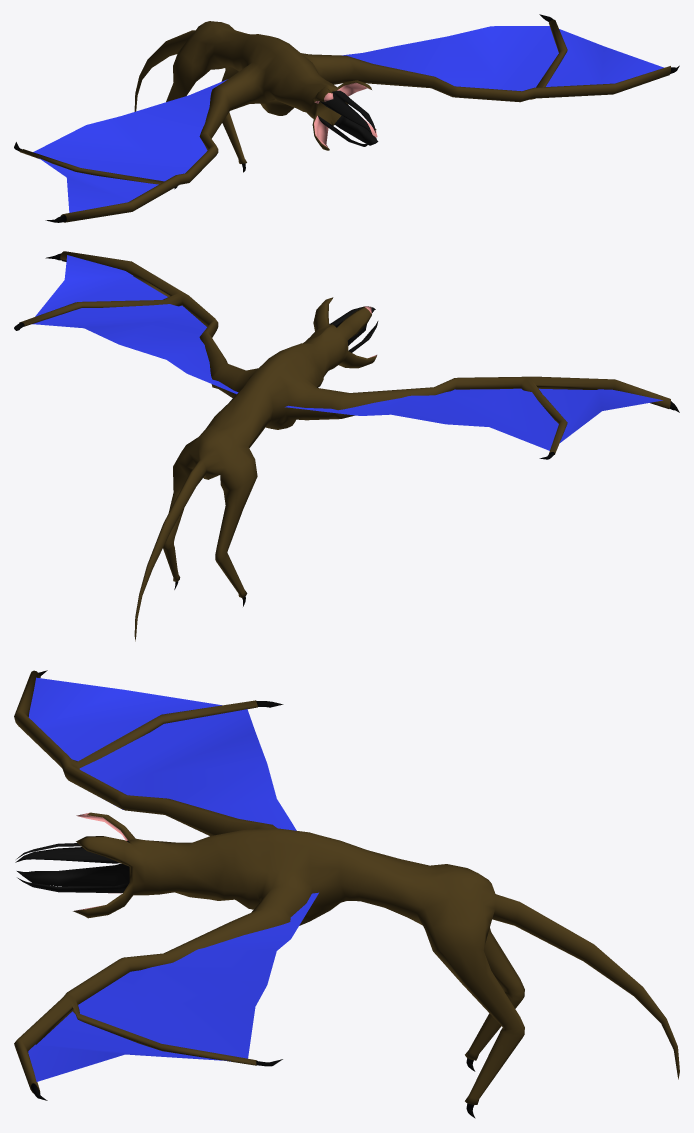
The model's file is Birdie(GoodScale).FBX.
3 views of the same model, one above another, from view 1: azimuth 30°, elevation 25°; view 2: azimuth 150°, elevation 25°; view 3: azimuth 270°, elevation 25° (orthographic). The views are drawn at different scales.
Parts seen in each view (by area): view 1: Wings, Birdie; view 2: Birdie, Wings; view 3: Birdie, Wings.
Boxes of the visible parts, x1,y1,x2,y2 form: Wings: (33,26,663,212); Birdie: (14,14,679,222); Birdie: (14,251,679,641); Wings: (32,255,662,450); Birdie: (14,670,679,1118); Wings: (28,677,318,1081).
Bounding box in the file's own units: 92.67 × 27.1 × 60.54.
